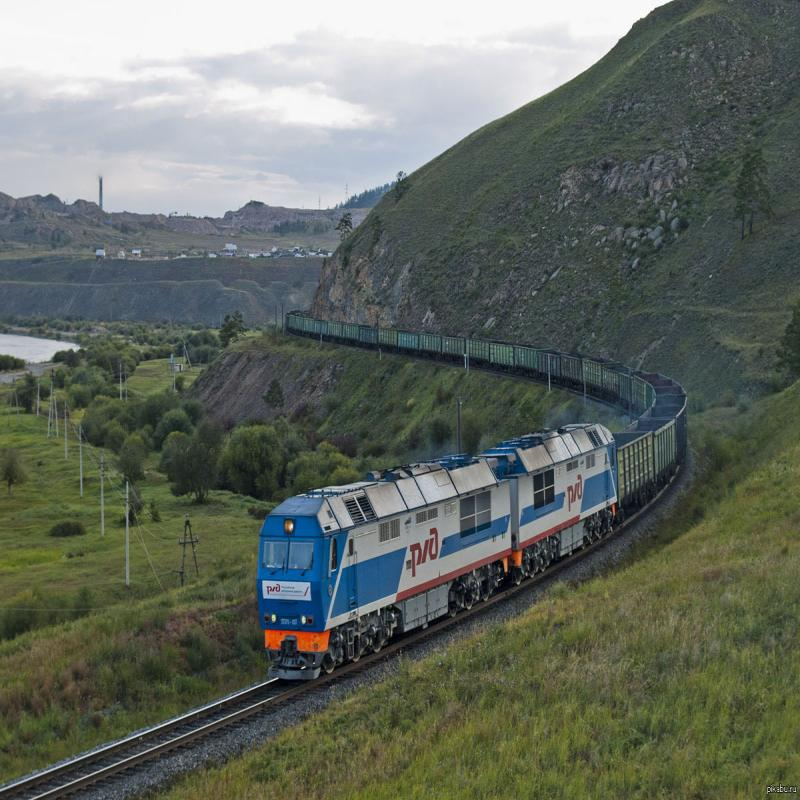train: (244, 387, 514, 713), (485, 364, 625, 600), (612, 377, 700, 513)
